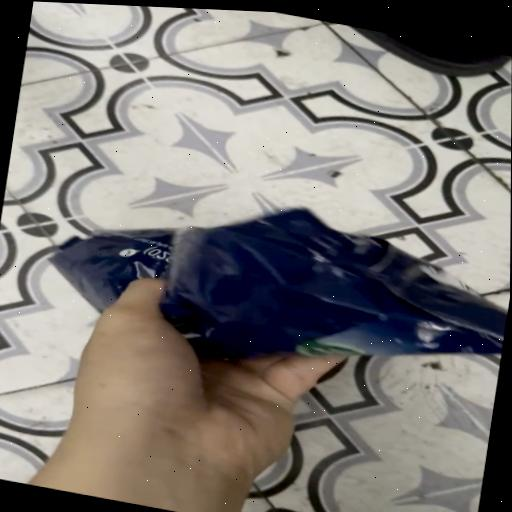cafe_hat: (54, 209, 508, 358)
